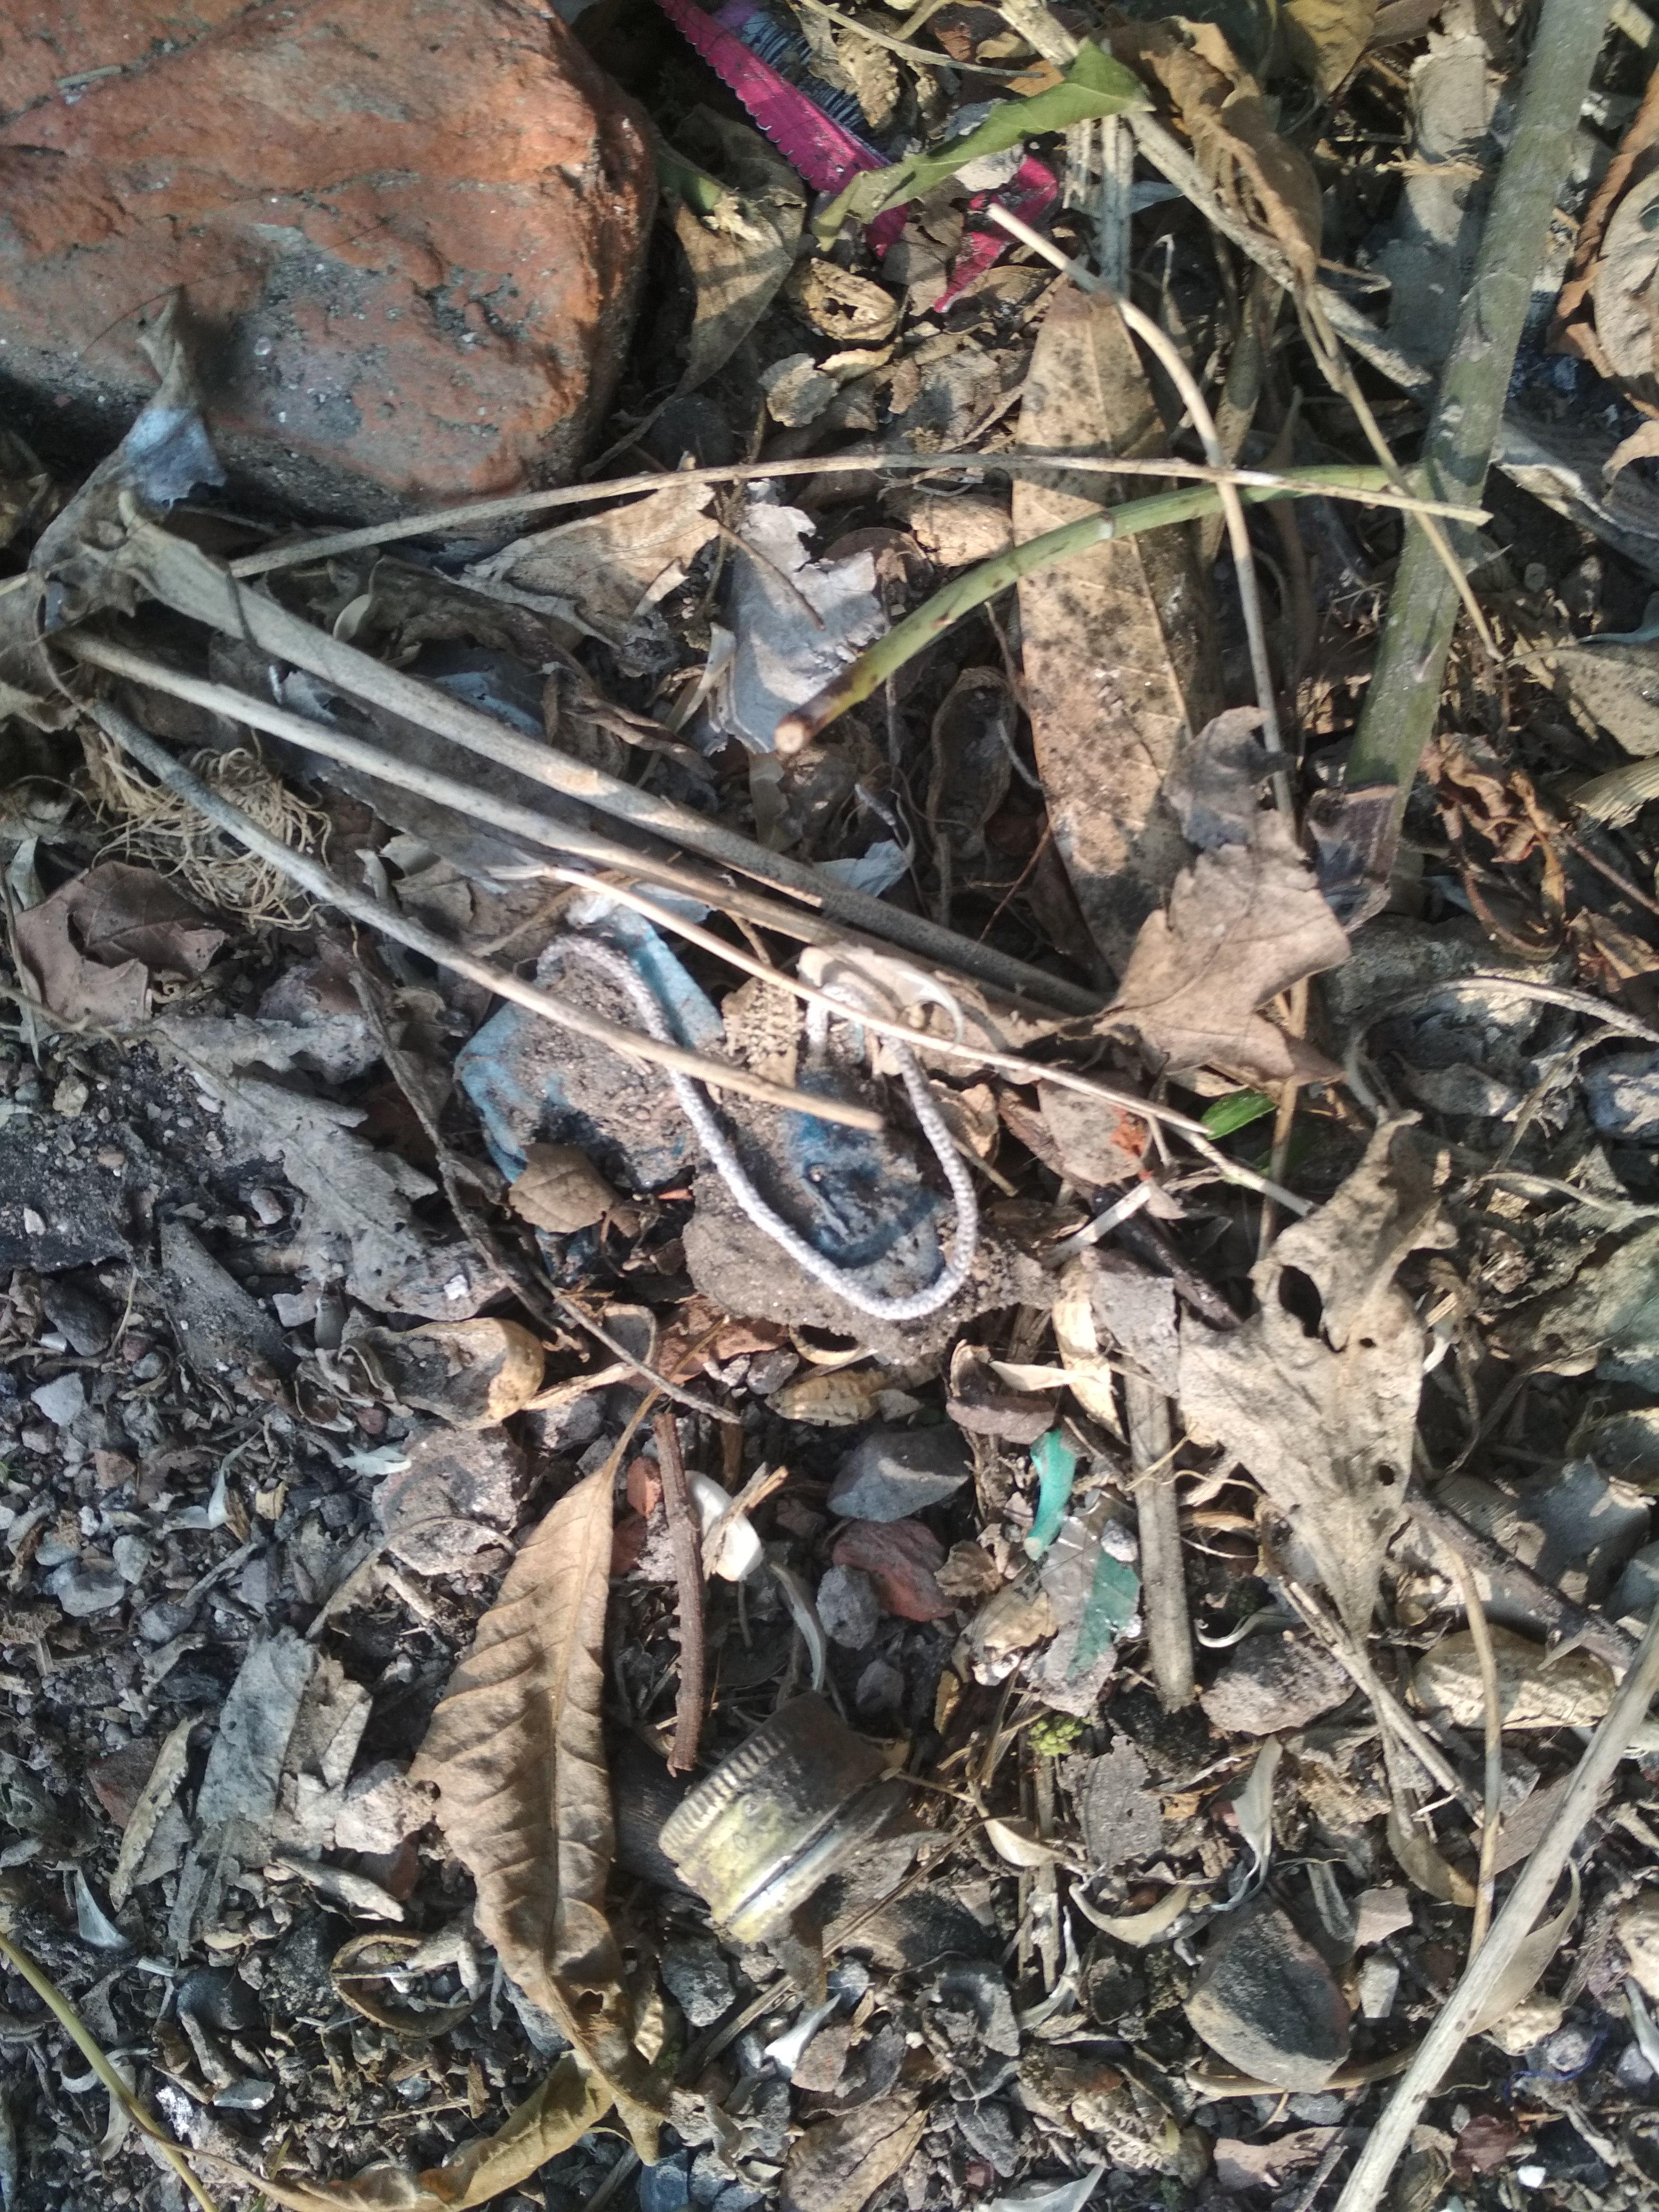dw: (9, 320, 1213, 1362)
